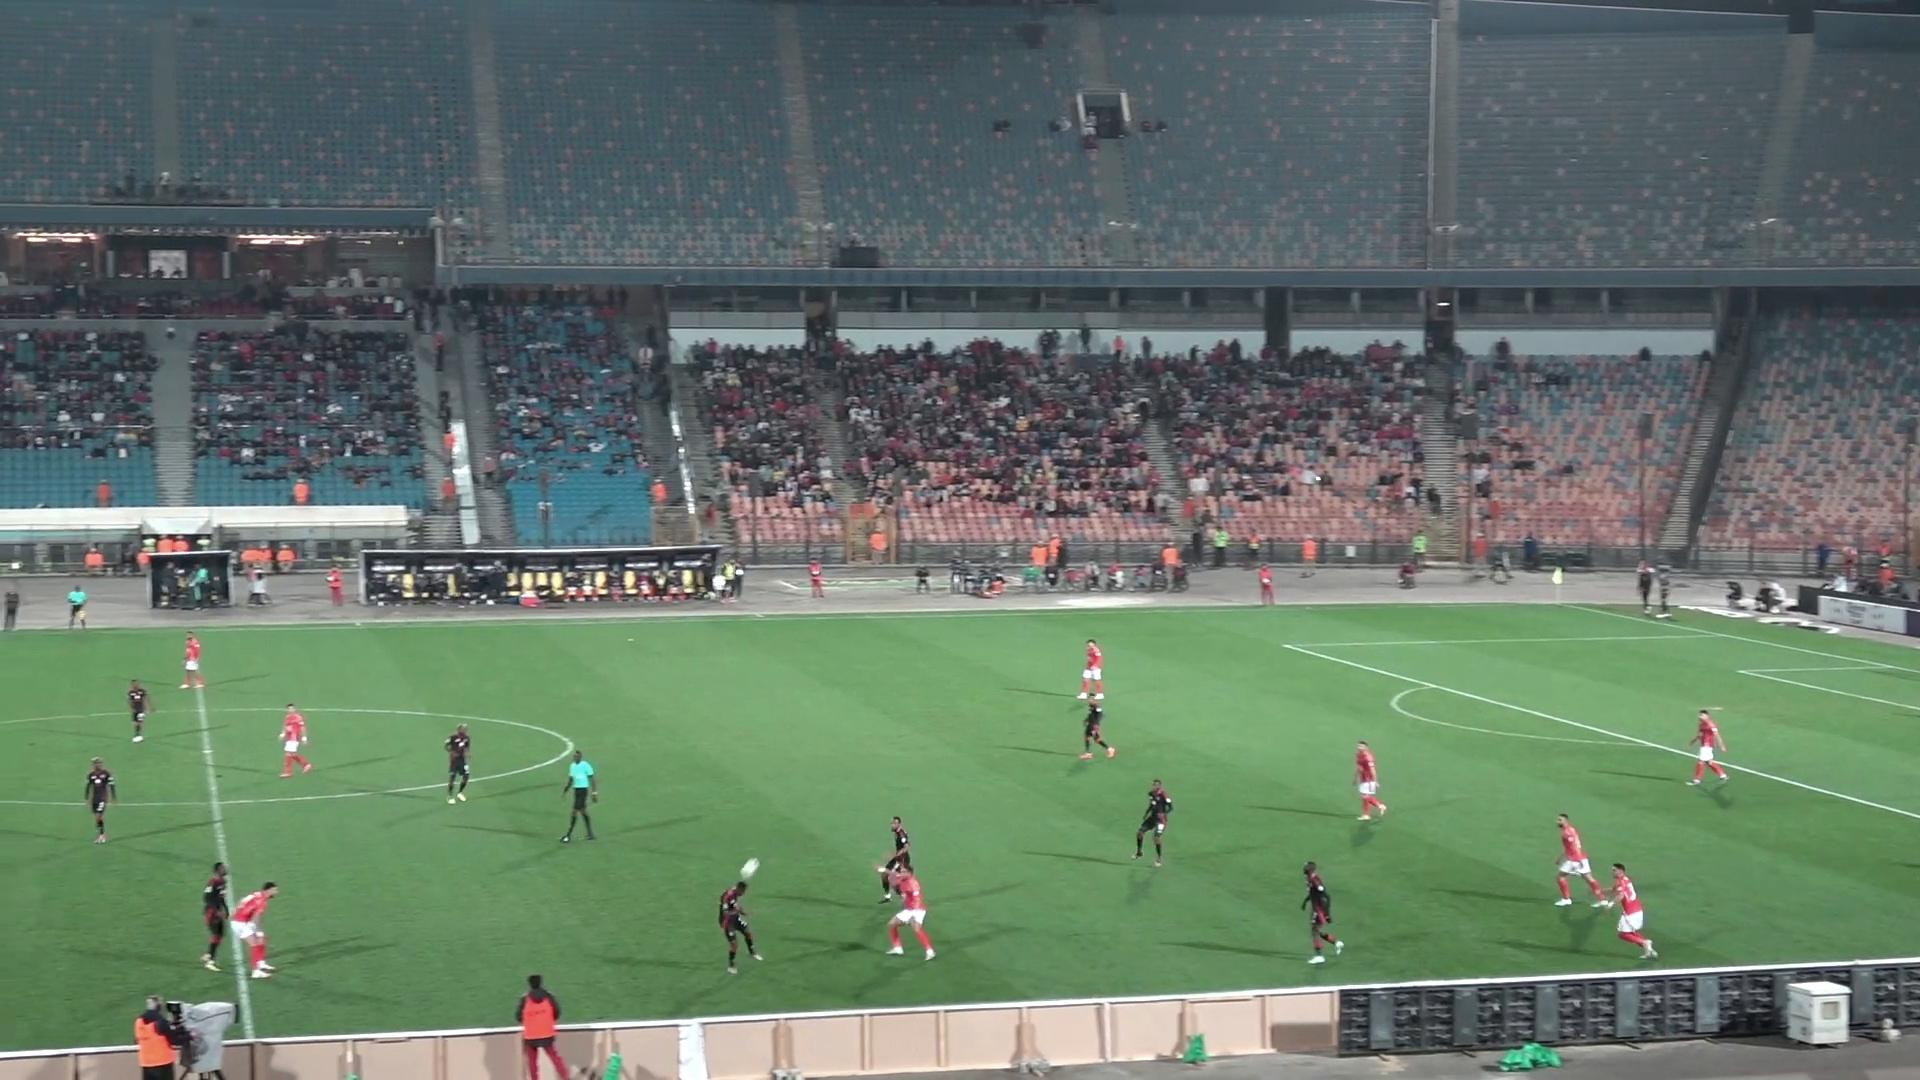Ball: (736, 858, 760, 891)
Refree: (559, 750, 596, 841), (66, 585, 87, 628)
Team1: (1600, 862, 1656, 960), (1555, 814, 1609, 906), (229, 882, 278, 978), (887, 864, 935, 960), (1353, 740, 1387, 822), (1691, 709, 1727, 783), (280, 705, 313, 778), (1076, 638, 1105, 700), (178, 632, 203, 688)
Team2: (717, 858, 762, 973), (1300, 861, 1342, 964), (1133, 781, 1174, 865), (199, 861, 229, 971), (874, 816, 913, 902), (83, 757, 116, 843), (1077, 692, 1116, 758), (444, 724, 472, 803), (125, 680, 156, 742)
